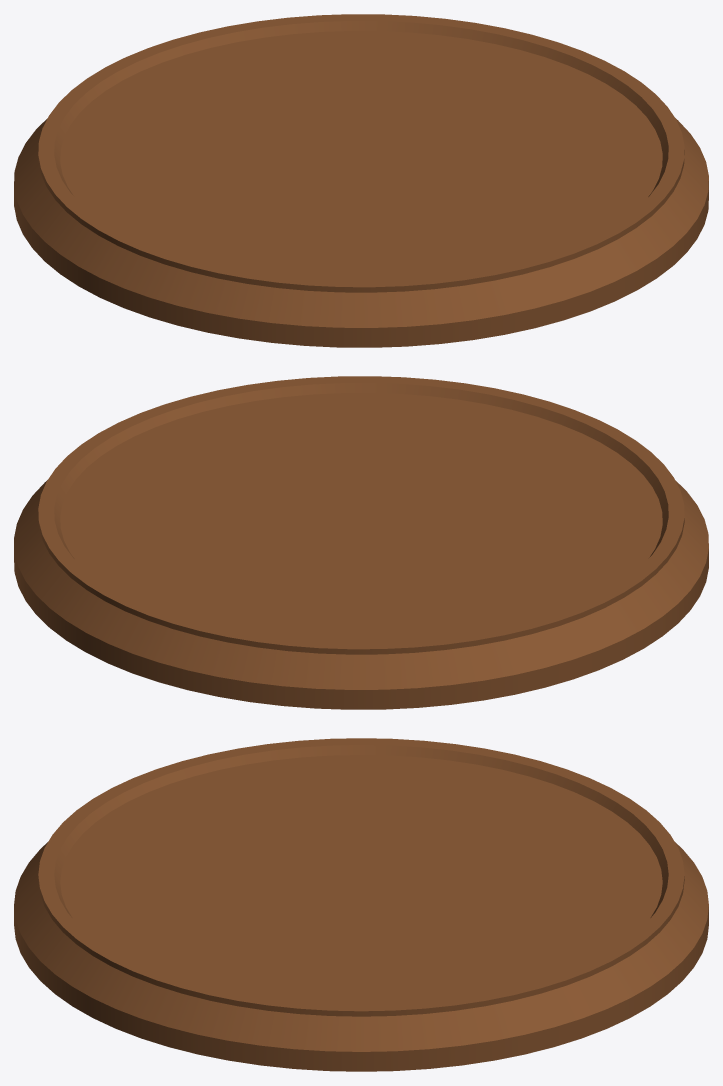
3 views of the same model, one above another, from view 1: azimuth 30°, elevation 25°; view 2: azimuth 150°, elevation 25°; view 3: azimuth 270°, elevation 25° (orthographic).
Visible parts, largest first — view 1: disk; view 2: disk; view 3: disk.
Part boxes in pixels (bbox=[...]): disk: bbox=[14, 14, 708, 347]; disk: bbox=[14, 376, 708, 709]; disk: bbox=[14, 738, 708, 1071].
Bounding box in the file's own units: 0.3495 × 0.0279 × 0.3495.
